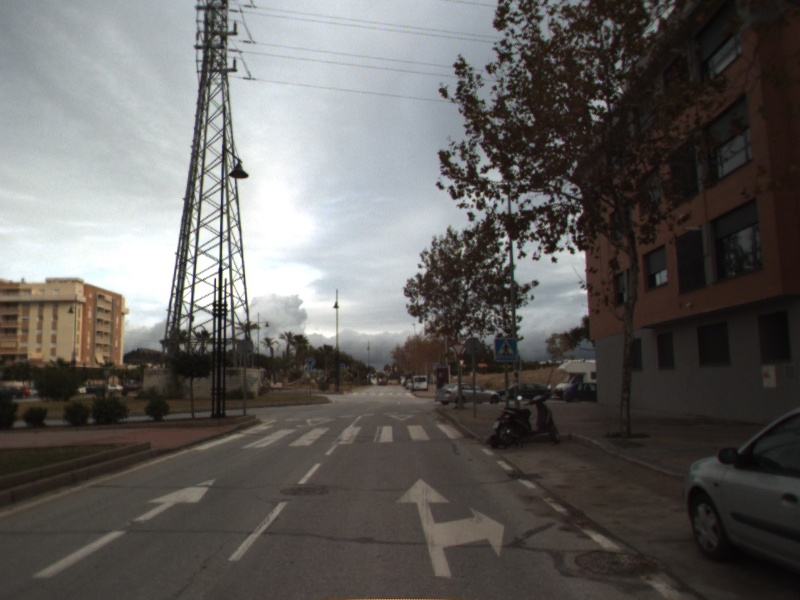STRAIGHT: (30, 477, 218, 580)
STRAIGHT_RIGHT: (393, 477, 506, 579)
